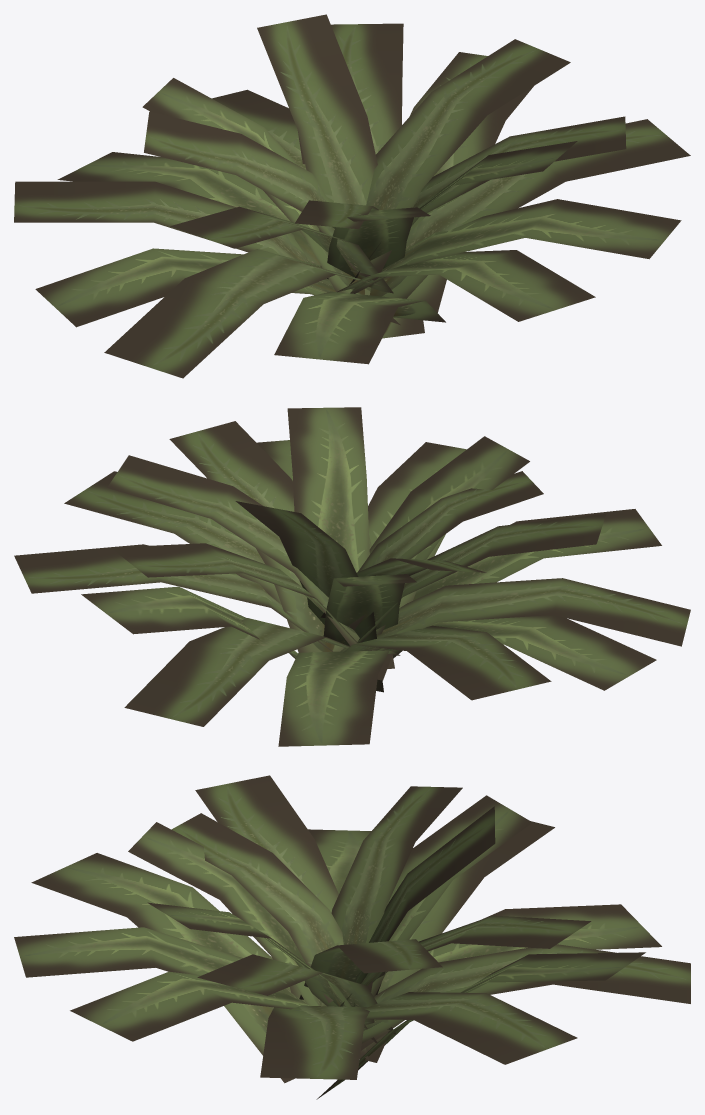
Rendered from fern_01.FBX.
3 views of the same model, one above another, from view 1: azimuth 30°, elevation 25°; view 2: azimuth 150°, elevation 25°; view 3: azimuth 270°, elevation 25° (orthographic). The views are drawn at different scales.
Visible parts, largest first — view 1: fern_01; view 2: fern_01; view 3: fern_01.
Part boxes in pixels (x1,y1,x2,y2): fern_01: (14,14,690,378); fern_01: (14,407,690,746); fern_01: (14,775,690,1099).
Size of the model in its own units: 71.95 by 30.59 by 70.67.
